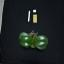leaf: (19, 32, 33, 47), (33, 36, 48, 50)
